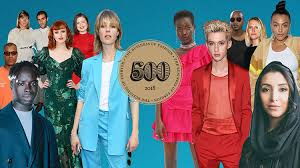middle_eastern_Female: (93, 11, 124, 45)
